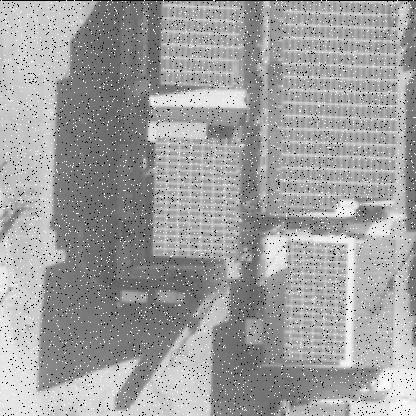solar-pv-panel: (280, 0, 398, 207), (154, 137, 238, 261), (284, 239, 349, 361), (160, 0, 241, 85)
